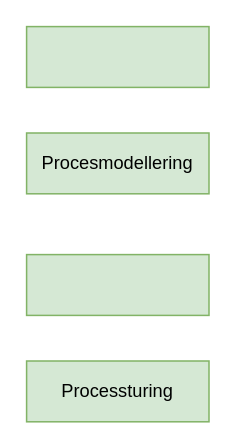
Some shapes in this 236 by 448 pixel diagram are drawn without their labels. Each missing label, with the box of its shape:
Procesarchitectuur: (25, 25, 209, 87)
Procesuitwerking: (25, 253, 209, 315)
